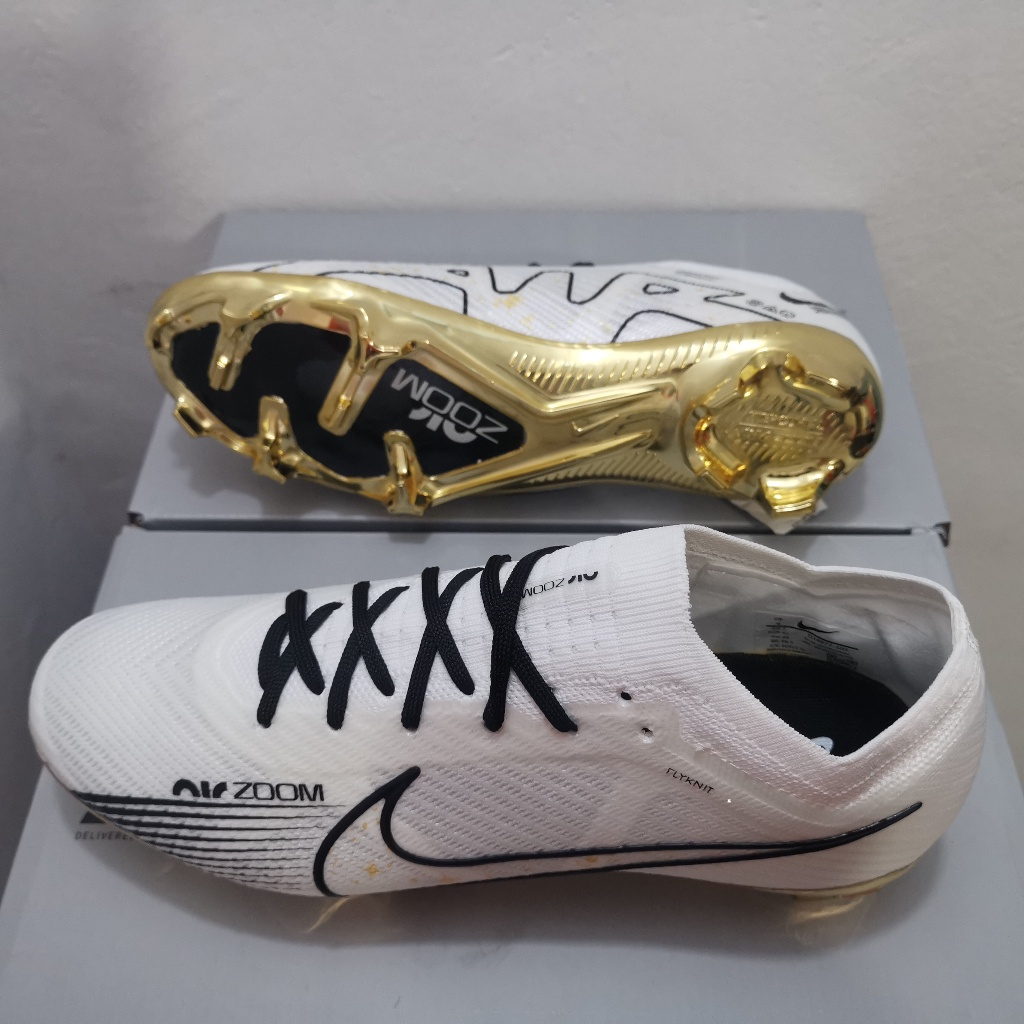soccer shoes: (26, 521, 989, 902), (146, 259, 884, 532)
